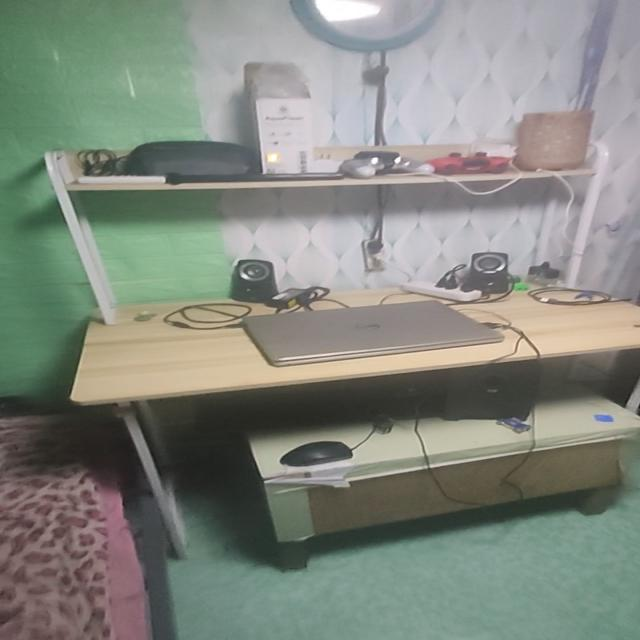table: (51, 262, 640, 577)
